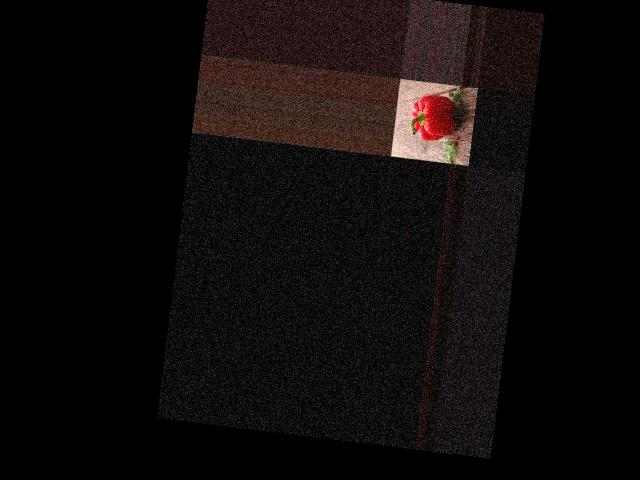bell_pepper: (404, 89, 460, 146)
